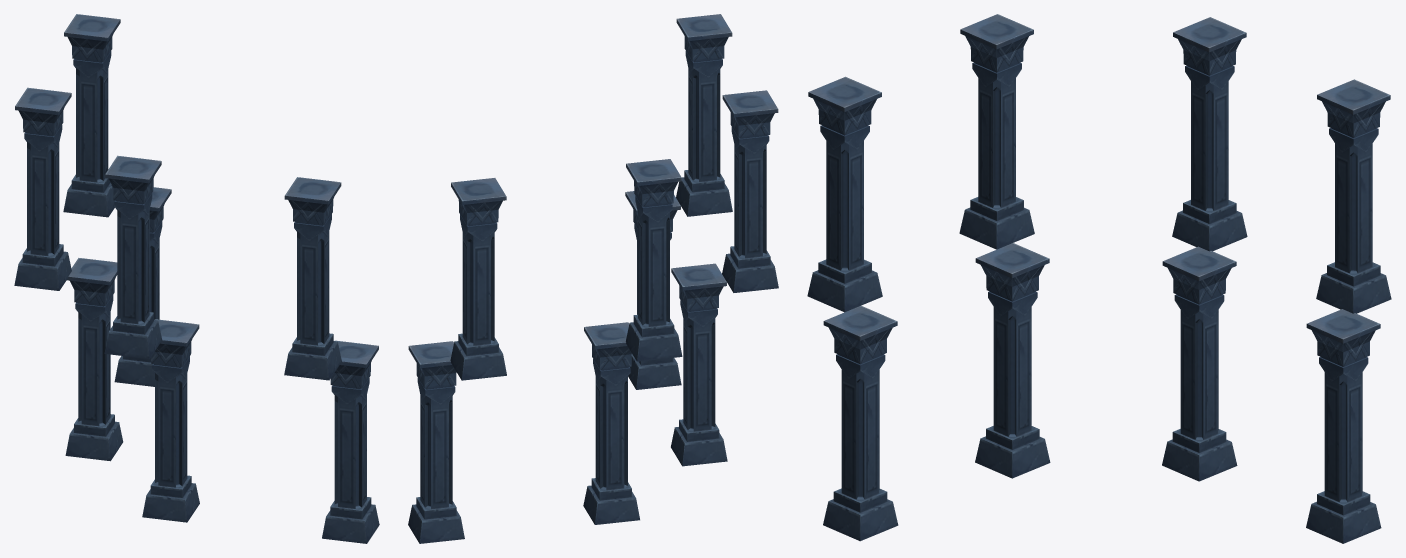
File: Area_01_2.fbx
The picture shows the model from 3 angles, left to right: view 1: azimuth 30°, elevation 25°; view 2: azimuth 150°, elevation 25°; view 3: azimuth 270°, elevation 25°; orthographic projection. The views are drawn at different scales.
Visible parts, largest first — view 1: Area_01_2; view 2: Area_01_2; view 3: Area_01_2.
Part boxes in pixels (left/top/right/bottom): Area_01_2: left=14, top=14, right=379, bottom=543; Area_01_2: left=408, top=14, right=778, bottom=543; Area_01_2: left=807, top=14, right=1391, bottom=543.
Size of the model in its own units: 1484 by 2316 by 3003.
